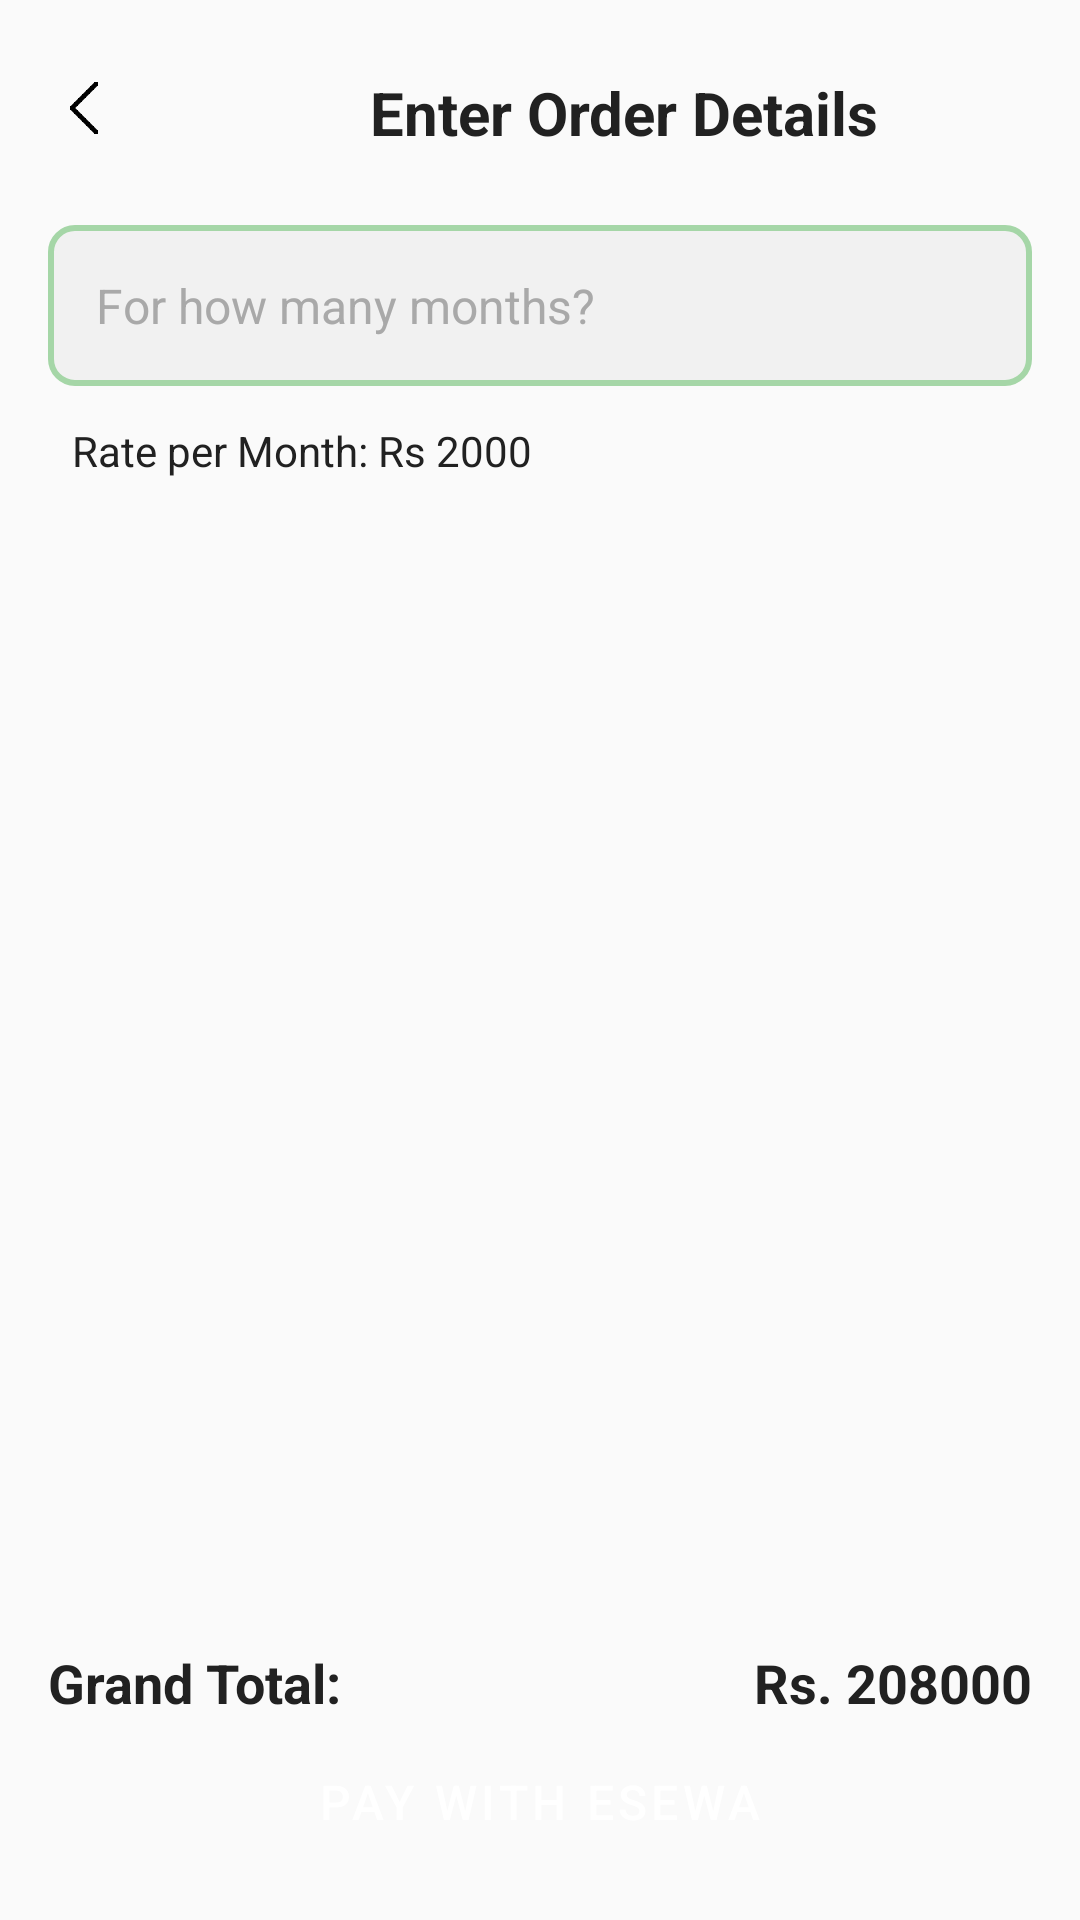

Icons on this 1080 × 1920 Android screen, each with its box as (x1, y1, x2, y2):
back: (70, 82, 98, 134)
